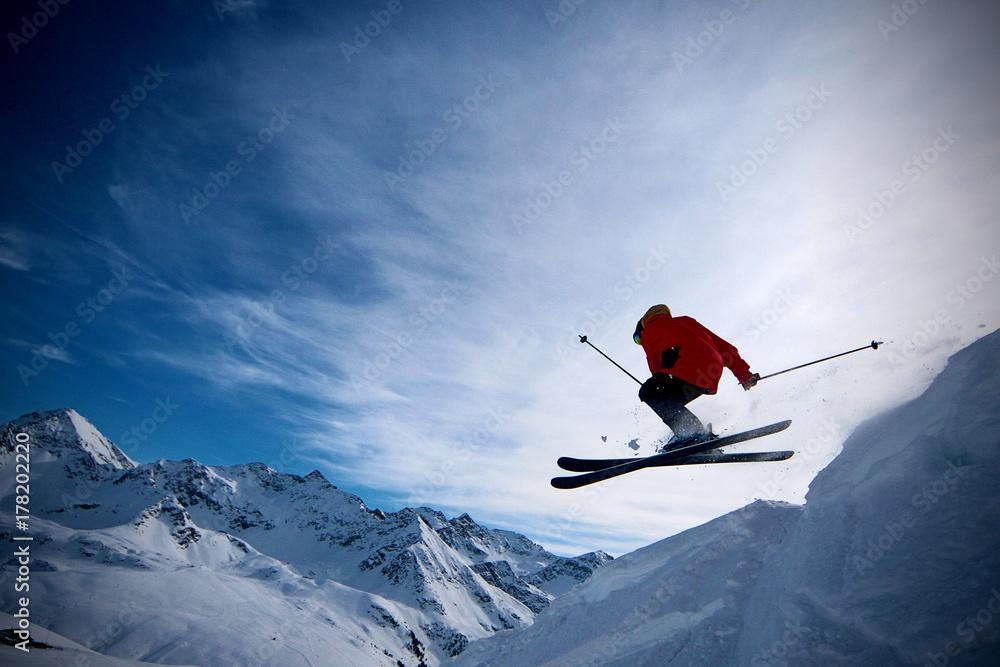Skis: (547, 402, 845, 519)
